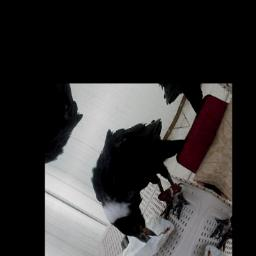Crow: (71, 97, 216, 256)
